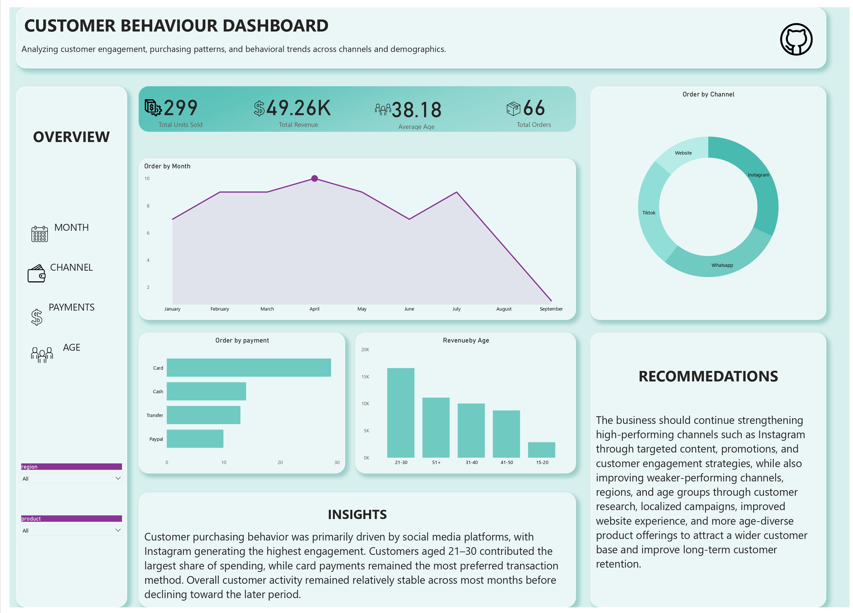

The page's visual inventory and layout, read from the dashboard file:
{"tool":"powerbi","page":{"name":"Page 1","canvas":[2100,1500],"ordinal":0},"visuals":[{"type":"textbox","box":[16.1,196.8,277.4,1303.2],"z":0},{"type":"image","box":[322.6,196.8,1093.5,112.9],"z":1000},{"type":"card","fields":{"Values":["ecommerce.Total Revenue"]},"box":[615.7,196.8,212.9,112.9],"z":2000},{"type":"card","fields":{"Values":["ecommerce.Total Units Sold"]},"box":[322.6,196.8,209.7,112.9],"z":3000},{"type":"card","fields":{"Values":["ecommerce.Average Age"]},"box":[911.9,206.7,211.1,104.4],"z":4000},{"type":"card","fields":{"Values":["ecommerce.Total Orders"]},"box":[1206.5,196.8,209.7,112.9],"z":5000},{"type":"lineChart","title":"Order by Month ","fields":{"Y":["CountNonNull(ecommerce.order_id)"],"Category":["ecommerce.Month Name"]},"box":[322.6,377.4,1093.5,403.2],"z":6000},{"type":"clusteredColumnChart","title":"Revenueby Age ","fields":{"Category":["ecommerce.Age Group"],"Y":["Sum(ecommerce.revenue_usd)"]},"box":[864.5,812.9,551.6,351.6],"z":7000},{"type":"barChart","title":"Order by payment","fields":{"Category":["ecommerce.payment_method"],"Y":["CountNonNull(ecommerce.order_id)"]},"box":[322.6,812.9,516.1,351.6],"z":8000},{"type":"donutChart","title":"Order by Channel","fields":{"Y":["CountNonNull(ecommerce.order_id)"],"Category":["ecommerce.channel"]},"box":[1451.6,196.8,590.3,583.9],"z":9000},{"type":"textbox","box":[16.1,0,2025.8,151.6],"z":10000},{"type":"slicer","fields":{"Values":["ecommerce.product_category"]},"box":[16.1,1264.5,277.4,103.2],"z":11000},{"type":"slicer","fields":{"Values":["ecommerce.region"]},"box":[16.1,1135.5,277.4,100],"z":12000},{"type":"textbox","box":[322.6,1212.9,1093.5,287.1],"z":13000},{"type":"textbox","box":[1451.6,812.9,590.3,687.1],"z":14000},{"type":"image","box":[51.6,545.2,45.2,41.9],"z":15000},{"type":"image","box":[45.2,745.2,45.2,58.1],"z":16000},{"type":"image","box":[51.6,819.4,58.1,100],"z":17000},{"type":"image","box":[19.4,641.9,96.8,45.2],"z":18000},{"type":"image","box":[603.2,222.6,41.9,58.1],"z":19000},{"type":"image","box":[912.9,222.6,41.9,64.5],"z":20000},{"type":"image","box":[1206.5,235.5,106.5,35.5],"z":21000},{"type":"image","box":[335.5,161.3,48.4,177.4],"z":22000},{"type":"image","box":[1926.9,30.8,80.8,96.2],"z":22001}]}

Visuals, with their boxes in screenshot pixels (x1, y1, x2, y2), scaled from the page's 2100x1500 canvas onto the 853x613 screenshot:
textbox: l=7, t=80, r=119, b=612
image: l=131, t=80, r=575, b=127
card - ecommerce.Total Revenue: l=250, t=80, r=337, b=127
card - ecommerce.Total Units Sold: l=131, t=80, r=216, b=127
card - ecommerce.Average Age: l=370, t=84, r=456, b=127
card - ecommerce.Total Orders: l=490, t=80, r=575, b=127
"Order by Month " lineChart: l=131, t=154, r=575, b=319
"Revenueby Age " clusteredColumnChart: l=351, t=332, r=575, b=476
"Order by payment" barChart: l=131, t=332, r=341, b=476
"Order by Channel" donutChart: l=590, t=80, r=829, b=319
textbox: l=7, t=0, r=829, b=62
slicer - ecommerce.product_category: l=7, t=517, r=119, b=559
slicer - ecommerce.region: l=7, t=464, r=119, b=505
textbox: l=131, t=496, r=575, b=612
textbox: l=590, t=332, r=829, b=612
image: l=21, t=223, r=39, b=240
image: l=18, t=305, r=37, b=328
image: l=21, t=335, r=45, b=376
image: l=8, t=262, r=47, b=281
image: l=245, t=91, r=262, b=115
image: l=371, t=91, r=388, b=117
image: l=490, t=96, r=533, b=111
image: l=136, t=66, r=156, b=138
image: l=783, t=13, r=816, b=52
